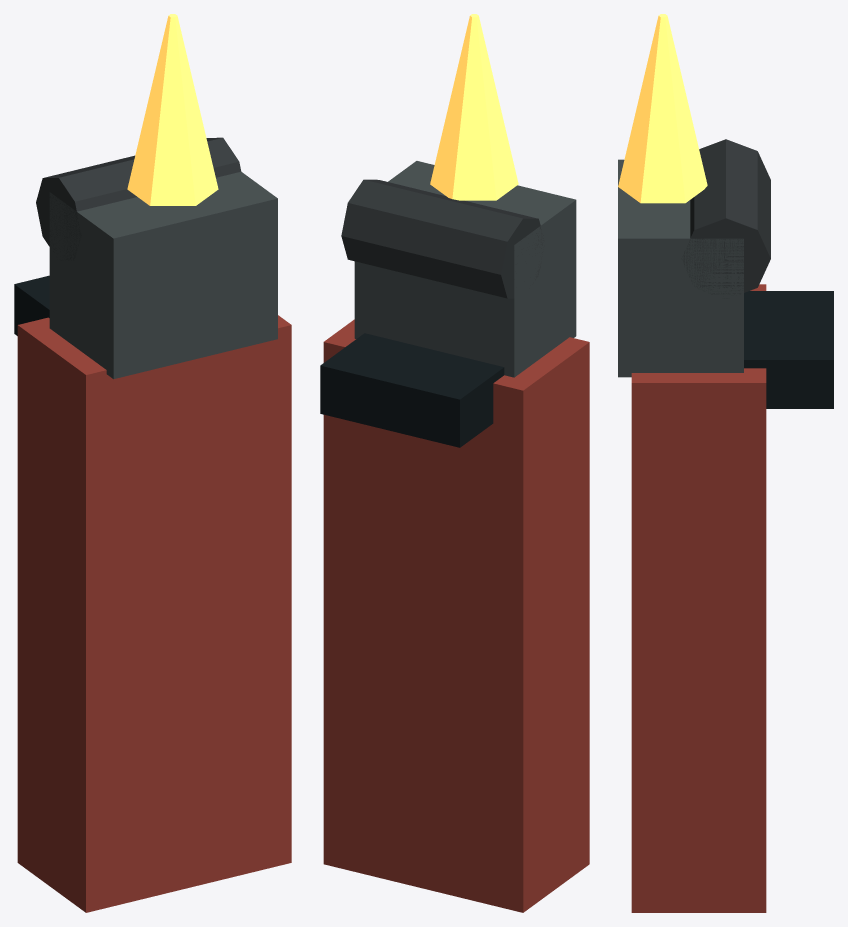
The model's file is blender_igniter_1_lit.glb.
3 renders of one model, left to right at view 1: azimuth 30°, elevation 25°; view 2: azimuth 150°, elevation 25°; view 3: azimuth 270°, elevation 25°, orthographic. The views are drawn at different scales.
Parts seen in each view (by area): view 1: blender_igniter_1_lit; view 2: blender_igniter_1_lit; view 3: blender_igniter_1_lit.
Boxes of the visible parts, x1,y1,x2,y2 form: blender_igniter_1_lit: [14, 14, 291, 912]; blender_igniter_1_lit: [320, 14, 589, 912]; blender_igniter_1_lit: [618, 14, 833, 912].
Bounding box in the file's own units: 0.026 × 0.104 × 0.024.
2 materials, 2 textured.
